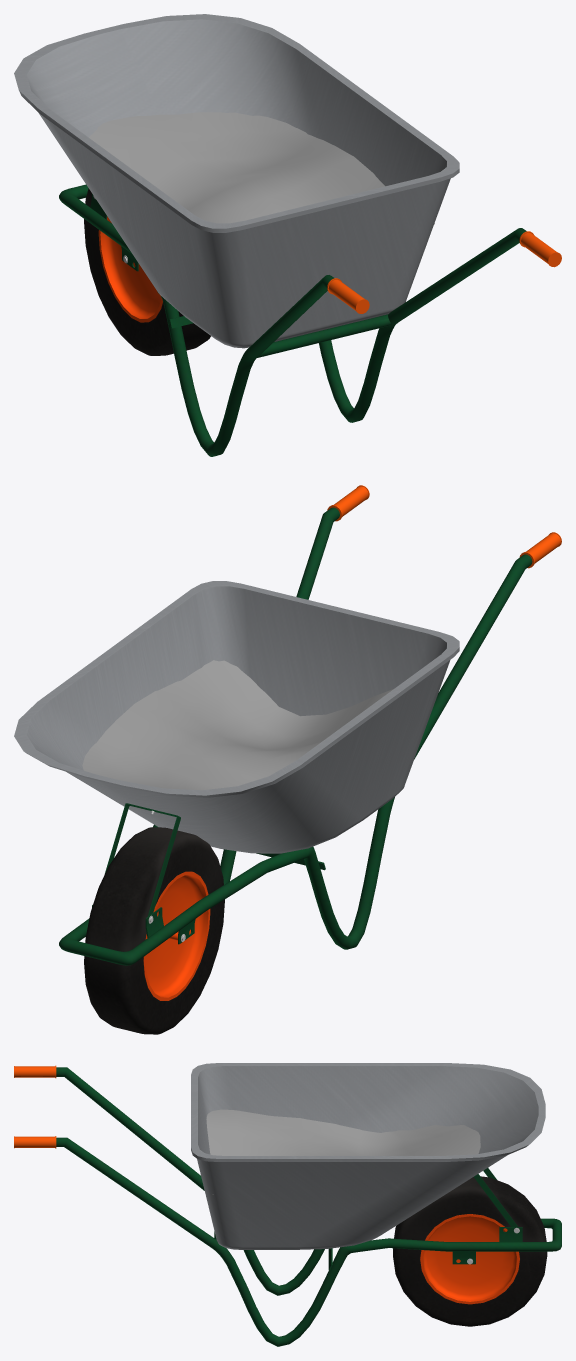
Rendered from SM_Wheelbarrow.FBX.
3 views of the same model, one above another, from view 1: azimuth 30°, elevation 25°; view 2: azimuth 150°, elevation 25°; view 3: azimuth 270°, elevation 25° (orthographic). The views are drawn at different scales.
Parts seen in each view (by area): view 1: Wheelbarrow_LOD0, Rubble_LOD0; view 2: Wheelbarrow_LOD0, Rubble_LOD0; view 3: Wheelbarrow_LOD0, Rubble_LOD0.
Part boxes in pixels (x1,y1,x2,y2): Wheelbarrow_LOD0: (14, 14, 561, 456); Rubble_LOD0: (89, 112, 434, 224); Wheelbarrow_LOD0: (14, 485, 561, 1034); Rubble_LOD0: (82, 660, 393, 790); Wheelbarrow_LOD0: (14, 1063, 561, 1346); Rubble_LOD0: (206, 1109, 480, 1194).
Size of what is drawn, in the model's own units: 0.588 by 0.6277 by 1.42.
